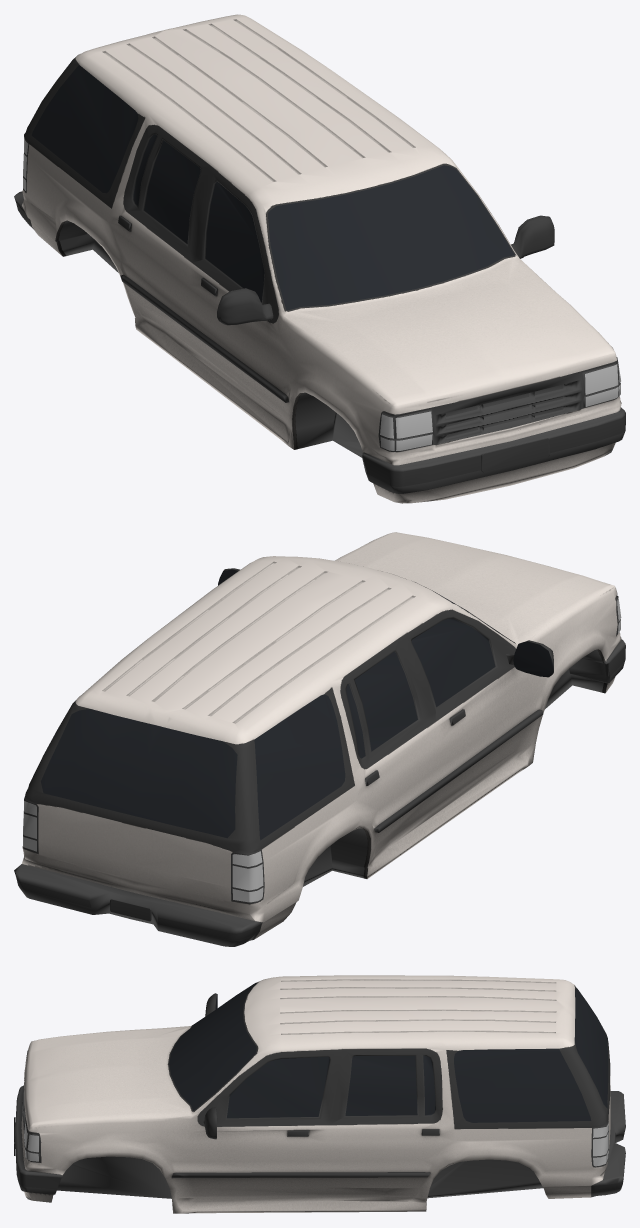
Rendered from car_0004.fbx.
The picture shows the model from 3 angles, top to bottom: view 1: azimuth 30°, elevation 25°; view 2: azimuth 150°, elevation 25°; view 3: azimuth 270°, elevation 25°; orthographic projection. The views are drawn at different scales.
Parts seen in each view (by area): view 1: car_main; view 2: car_main; view 3: car_main.
Part boxes in pixels (x1=…): car_main: x1=14, y1=14, x2=625, y2=503; car_main: x1=14, y1=532, x2=625, y2=946; car_main: x1=14, y1=975, x2=625, y2=1213.
Bounding box in the file's own units: 212 × 127 × 427.
